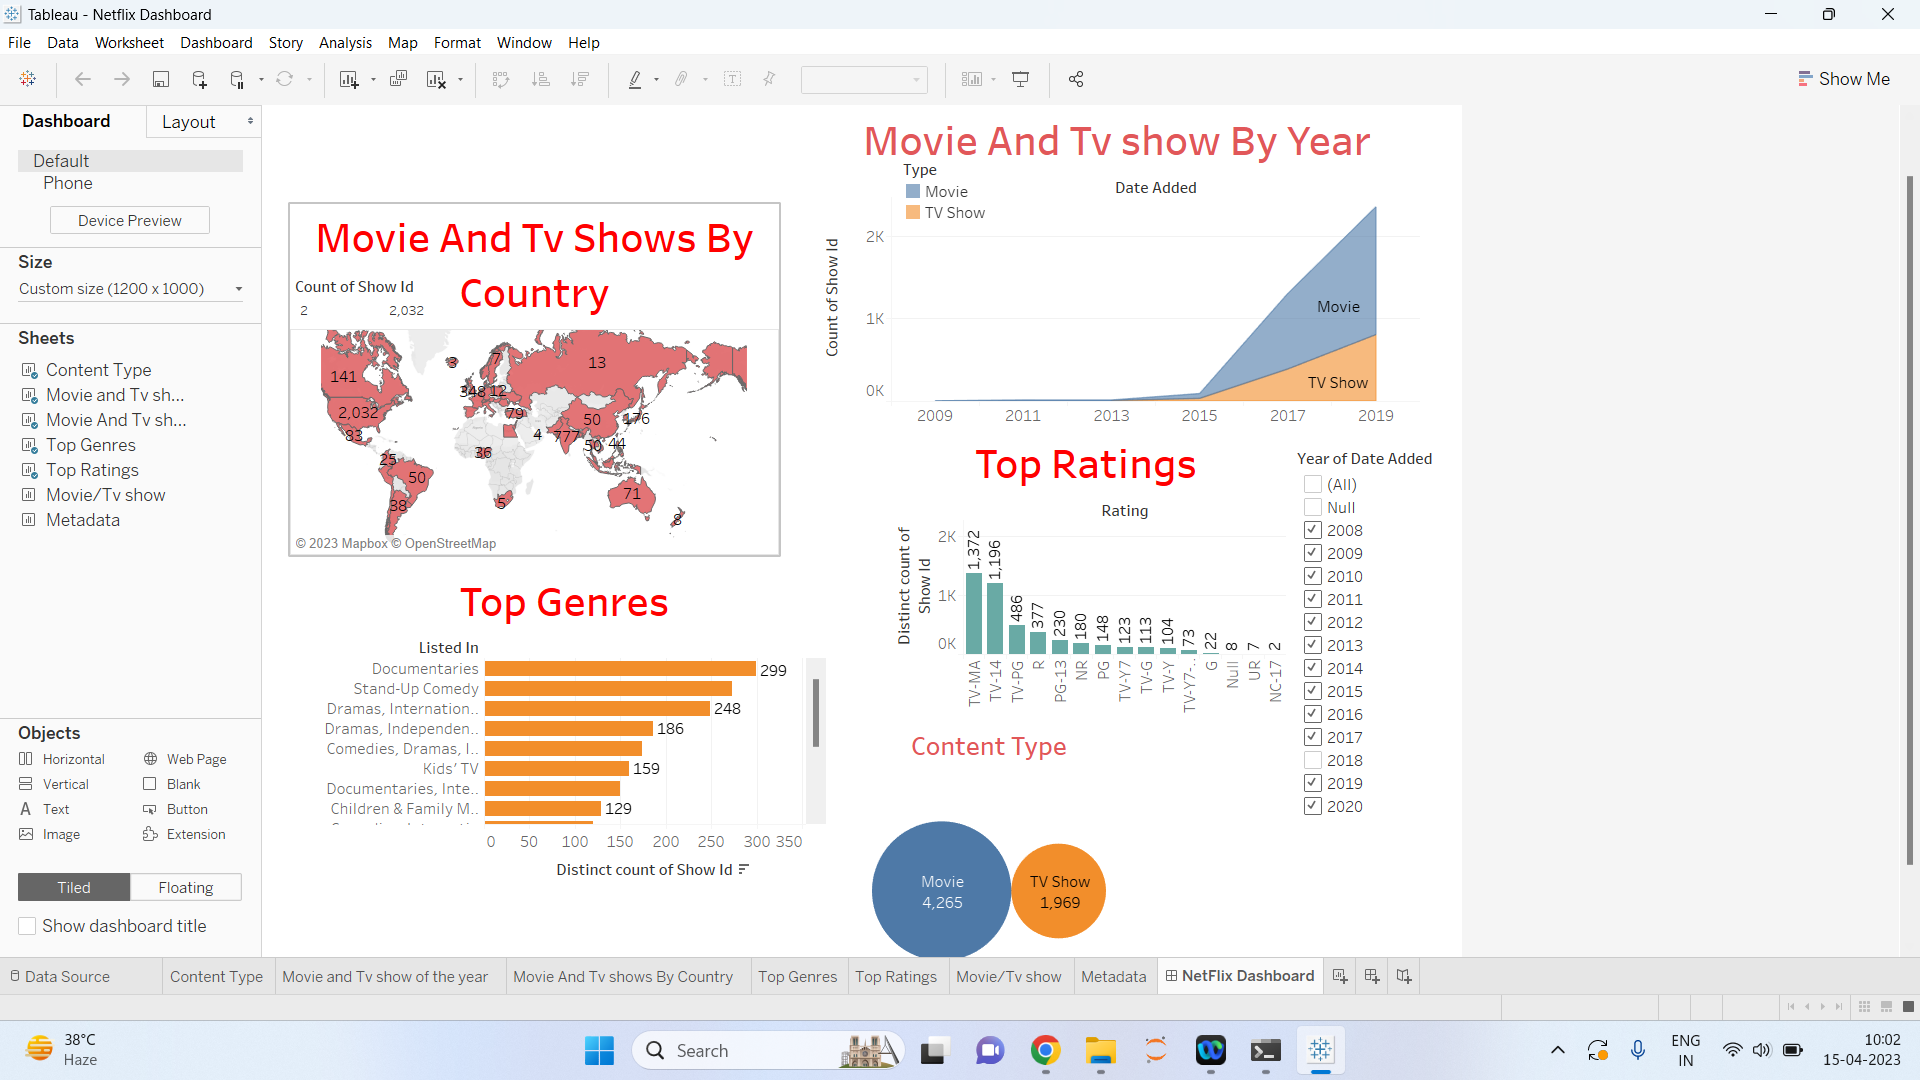

This screenshot's page, from the dashboard's own definition file:
{"tool":"tableau","page":{"name":"NetFlix Dashboard","canvas":[1200,1000],"ordinal":0},"visuals":[{"type":"image","param":"C:/Users/LENOVO/Downloads/netflix_logo.png","box":[22,13,400,122]},{"type":"worksheet","title":"Movie and Tv show of the year","mark":"Area","rows":["show_id"],"cols":["date_added"],"box":[552,64,606,319]},{"type":"legend","title":"Movie and Tv show of the year","param":"[federated.0qg6o4205sye7s14qu4o20jipv7j].[none:type:nk]","box":[641,116,140,64]},{"type":"worksheet","title":"Movie And Tv shows By Country","mark":"Multipolygon","box":[28,161,489,351]},{"type":"filter","title":"Movie And Tv shows By Country","param":"[federated.0qg6o4205sye7s14qu4o20jipv7j].[cnt:show_id:qk]","box":[33,233,136,44]},{"type":"worksheet","title":"Top Ratings","mark":"Automatic","rows":["show_id"],"cols":["rating"],"box":[624,387,400,284]},{"type":"filter","title":"Top Ratings","param":"[federated.0qg6o4205sye7s14qu4o20jipv7j].[yr:date_added:ok]","box":[1035,405,160,373]},{"type":"worksheet","title":"Top Genres","mark":"Automatic","rows":["listed_in"],"cols":["show_id"],"box":[62,525,502,319]},{"type":"worksheet","title":"Content Type","mark":"Circle","box":[610,681,400,284]}]}

Visuals, with their boxes on the page's 1200x1000 design canvas (x1, y1, x2, y2). These are canvas units, not pixel positions in the 1920x1080 screenshot, which may show the page scaled, cropped or inside an application window:
image: (left=22, top=13, right=422, bottom=135)
"Movie and Tv show of the year" worksheet (Area marks): (left=552, top=64, right=1158, bottom=383)
"Movie and Tv show of the year" legend: (left=641, top=116, right=781, bottom=180)
"Movie And Tv shows By Country" worksheet (Multipolygon marks): (left=28, top=161, right=517, bottom=512)
"Movie And Tv shows By Country" filter: (left=33, top=233, right=169, bottom=277)
"Top Ratings" worksheet: (left=624, top=387, right=1024, bottom=671)
"Top Ratings" filter: (left=1035, top=405, right=1195, bottom=778)
"Top Genres" worksheet: (left=62, top=525, right=564, bottom=844)
"Content Type" worksheet (Circle marks): (left=610, top=681, right=1010, bottom=965)
